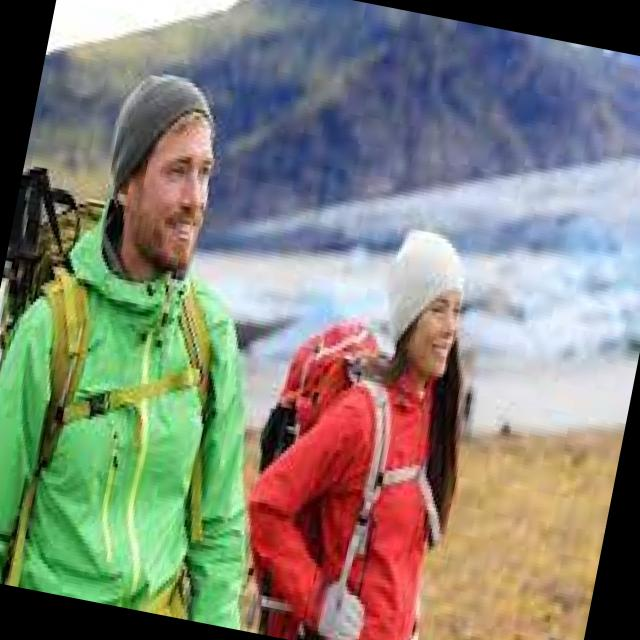Jacket: (0, 225, 305, 629), (220, 323, 490, 640)
